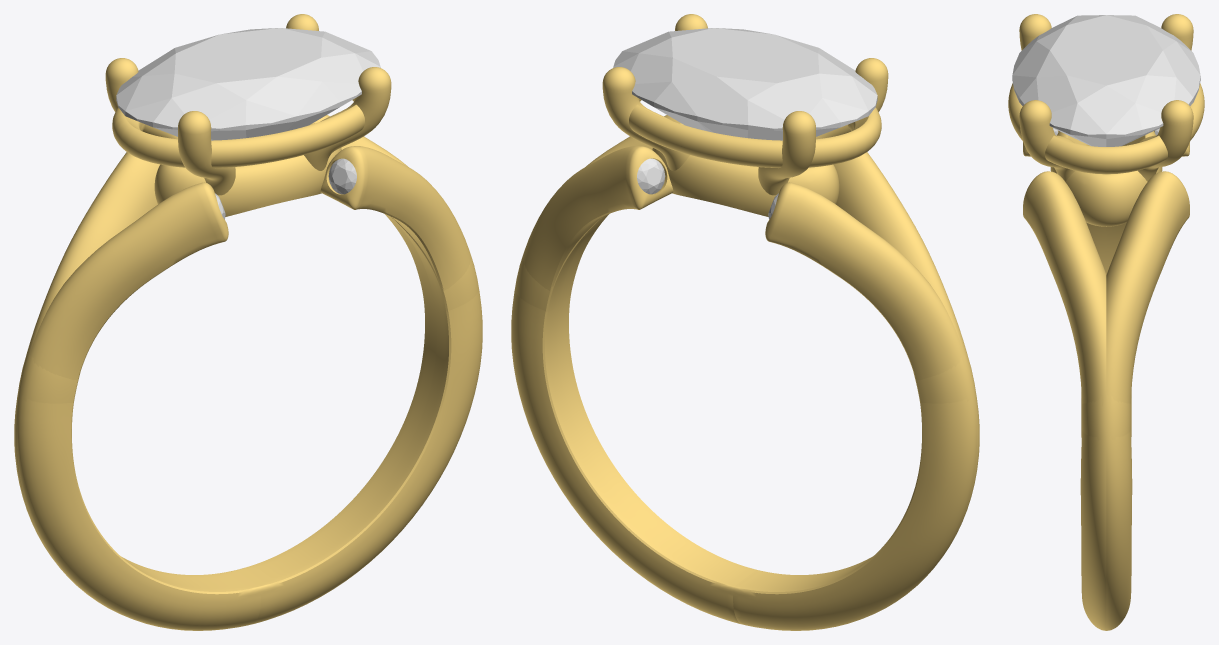
The model's file is JonathanV2engYG_blender.glb.
The picture shows the model from 3 angles, left to right: view 1: azimuth 30°, elevation 25°; view 2: azimuth 150°, elevation 25°; view 3: azimuth 270°, elevation 25°; orthographic projection. The views are drawn at different scales.
Visible parts, largest first — view 1: V2 Jonathan YG for 3d model, V2 Jonathan dia for 3d model.004, V2 Jonathan dia for 3d model.001; view 2: V2 Jonathan YG for 3d model, V2 Jonathan dia for 3d model.004, V2 Jonathan dia for 3d model.002; view 3: V2 Jonathan YG for 3d model, V2 Jonathan dia for 3d model.004.
Boxes of the visible parts, x1,y1,x2,y2 form: V2 Jonathan YG for 3d model: [14, 14, 482, 630]; V2 Jonathan dia for 3d model.004: [116, 28, 380, 140]; V2 Jonathan dia for 3d model.001: [328, 158, 356, 194]; V2 Jonathan YG for 3d model: [511, 14, 979, 630]; V2 Jonathan dia for 3d model.004: [613, 28, 877, 140]; V2 Jonathan dia for 3d model.002: [637, 158, 665, 194]; V2 Jonathan YG for 3d model: [1008, 14, 1204, 630]; V2 Jonathan dia for 3d model.004: [1012, 15, 1200, 146].
Bounding box in the file's own units: 19.27 × 22.57 × 7.22.
